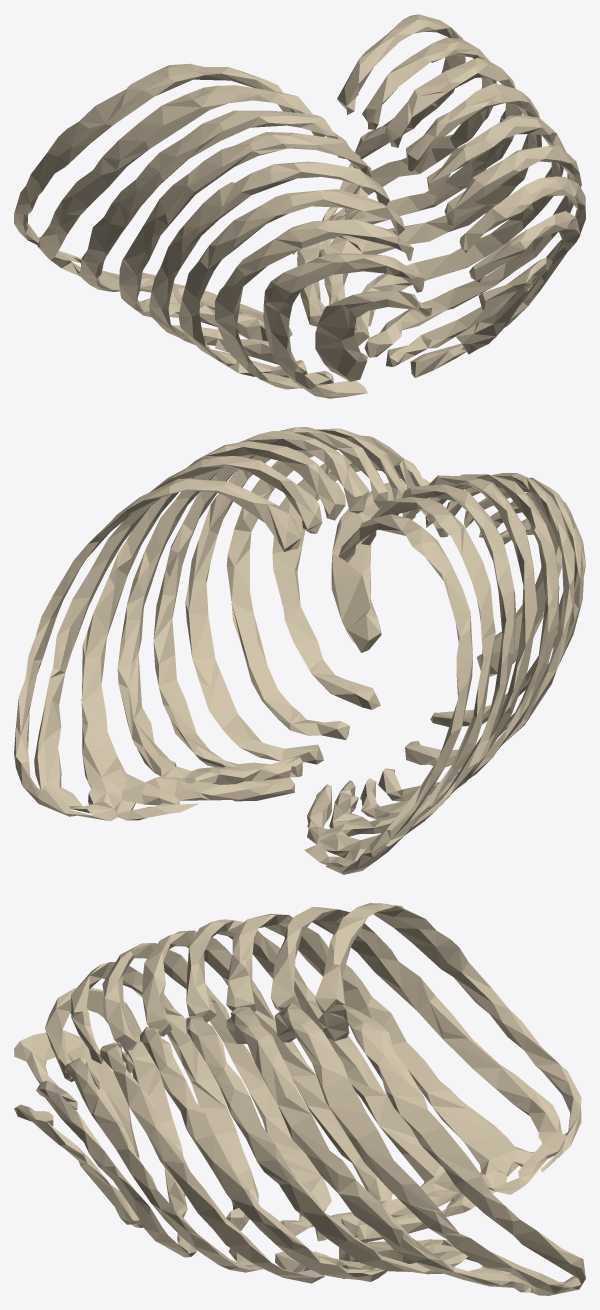
The model's file is ribcage.glb.
3 renders of one model, top to bottom at view 1: azimuth 30°, elevation 25°; view 2: azimuth 150°, elevation 25°; view 3: azimuth 270°, elevation 25°, orthographic. The views are drawn at different scales.
Visible parts, largest first — view 1: RIBCAGE_TRUE-FALSE%20RIBS.stl; view 2: RIBCAGE_TRUE-FALSE%20RIBS.stl; view 3: RIBCAGE_TRUE-FALSE%20RIBS.stl.
Boxes of the visible parts, left/top/right/bottom form: RIBCAGE_TRUE-FALSE%20RIBS.stl: left=14, top=14, right=585, bottom=398; RIBCAGE_TRUE-FALSE%20RIBS.stl: left=14, top=427, right=585, bottom=874; RIBCAGE_TRUE-FALSE%20RIBS.stl: left=14, top=903, right=585, bottom=1295.
Size of the model in its own units: 0.3006 by 0.2082 by 0.3597.
